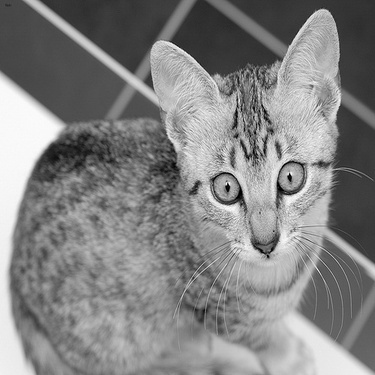cat: (7, 9, 345, 369)
